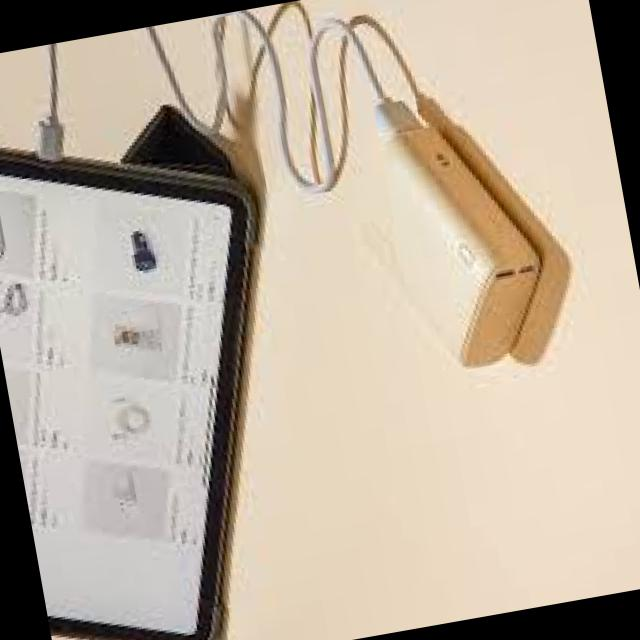power_bank: (336, 102, 564, 384)
